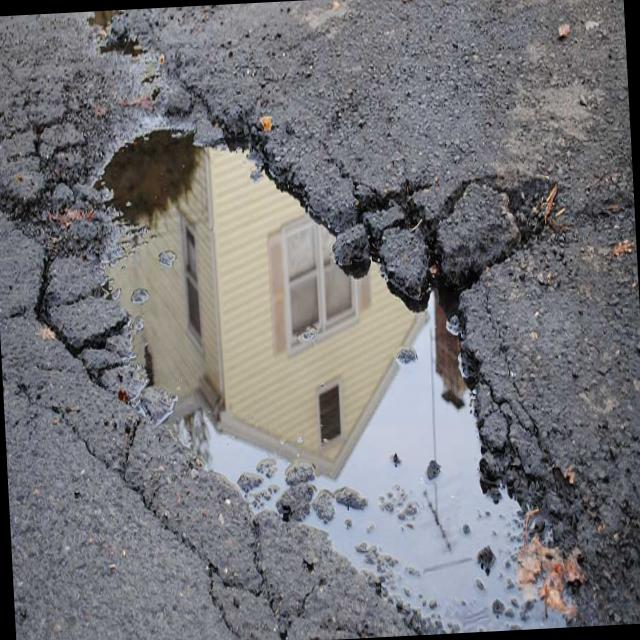Potholes: (15, 33, 622, 640)
